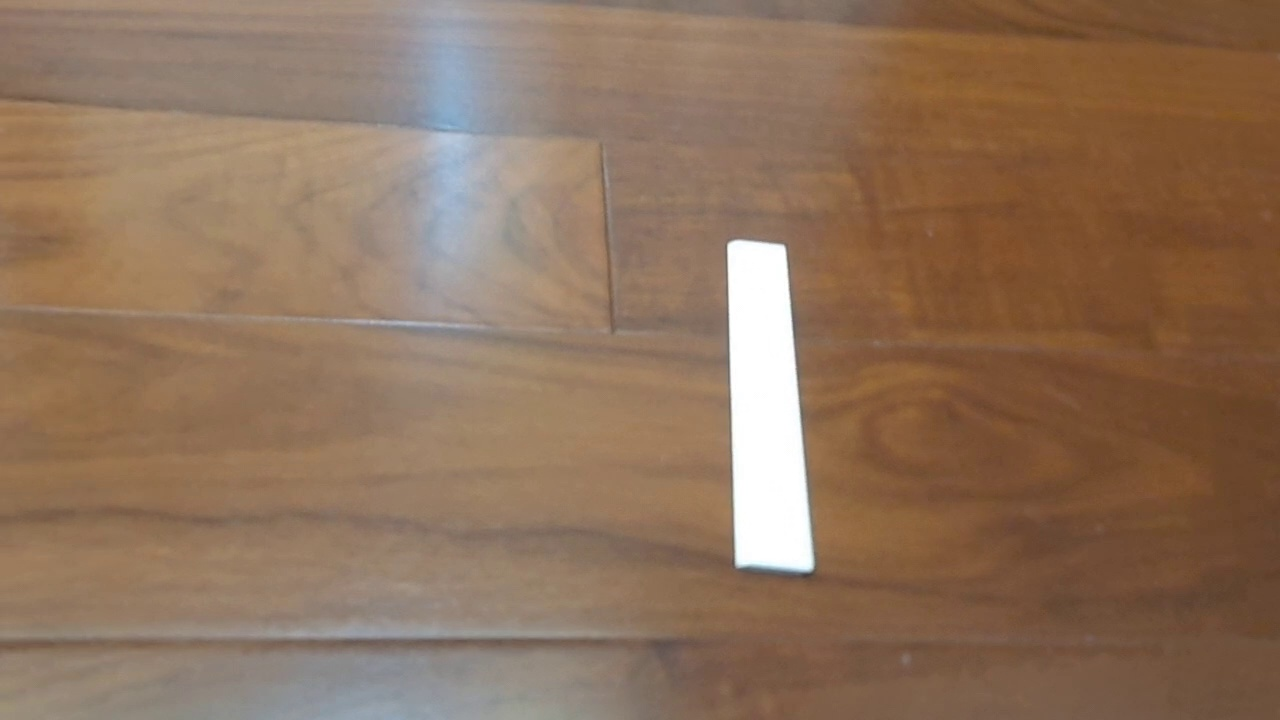ruler: (724, 238, 817, 578)
